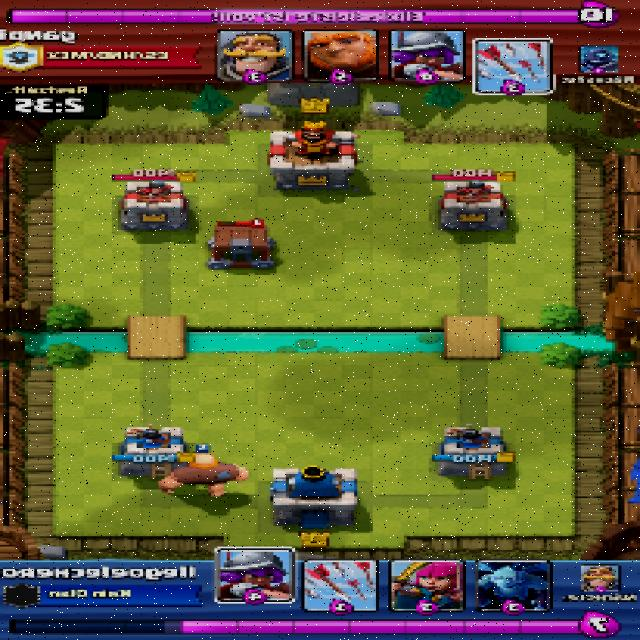Player-Giant: (161, 452, 251, 499)
Player-GoblinCage: (206, 225, 275, 269)
